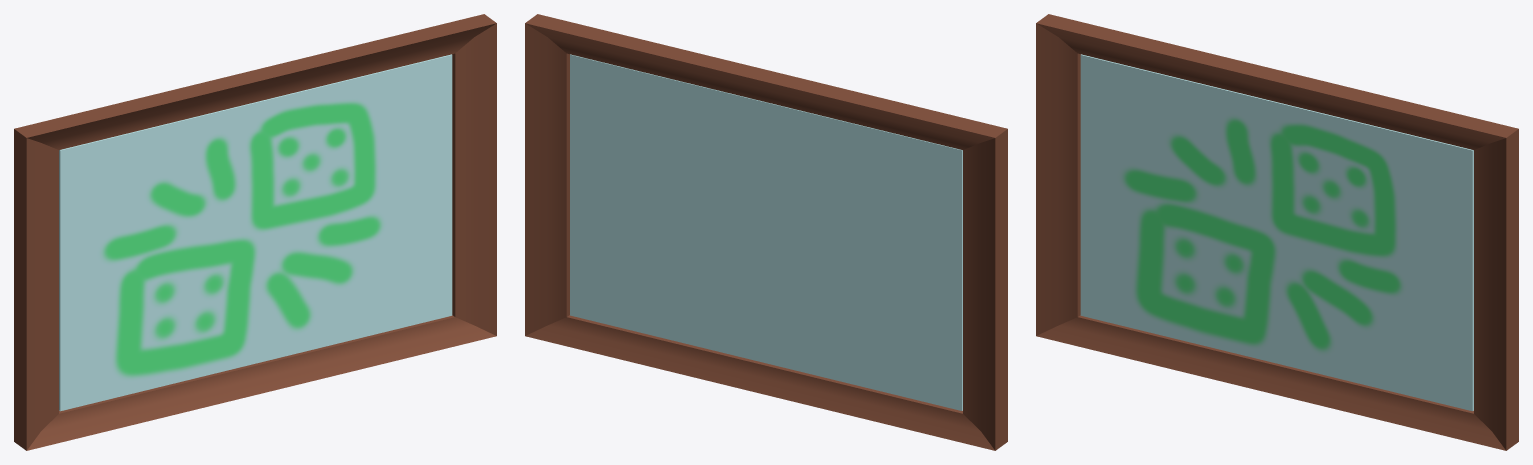
File: Painting.fbx
3 views of the same model, side by side, from view 1: azimuth 30°, elevation 25°; view 2: azimuth 150°, elevation 25°; view 3: azimuth 330°, elevation 25° (orthographic).
Parts seen in each view (by area): view 1: WAll_painting, WAll_painting1; view 2: WAll_painting, WAll_painting1; view 3: WAll_painting, WAll_painting1.
Part boxes in pixels (<box>): WAll_painting: <box>59,54,452,411</box>; WAll_painting1: <box>14,14,496,450</box>; WAll_painting: <box>570,54,962,410</box>; WAll_painting1: <box>525,14,1007,450</box>; WAll_painting: <box>1080,54,1473,411</box>; WAll_painting1: <box>1036,14,1518,450</box>.
Size of the model in its own units: 963 by 612 by 44.64.
